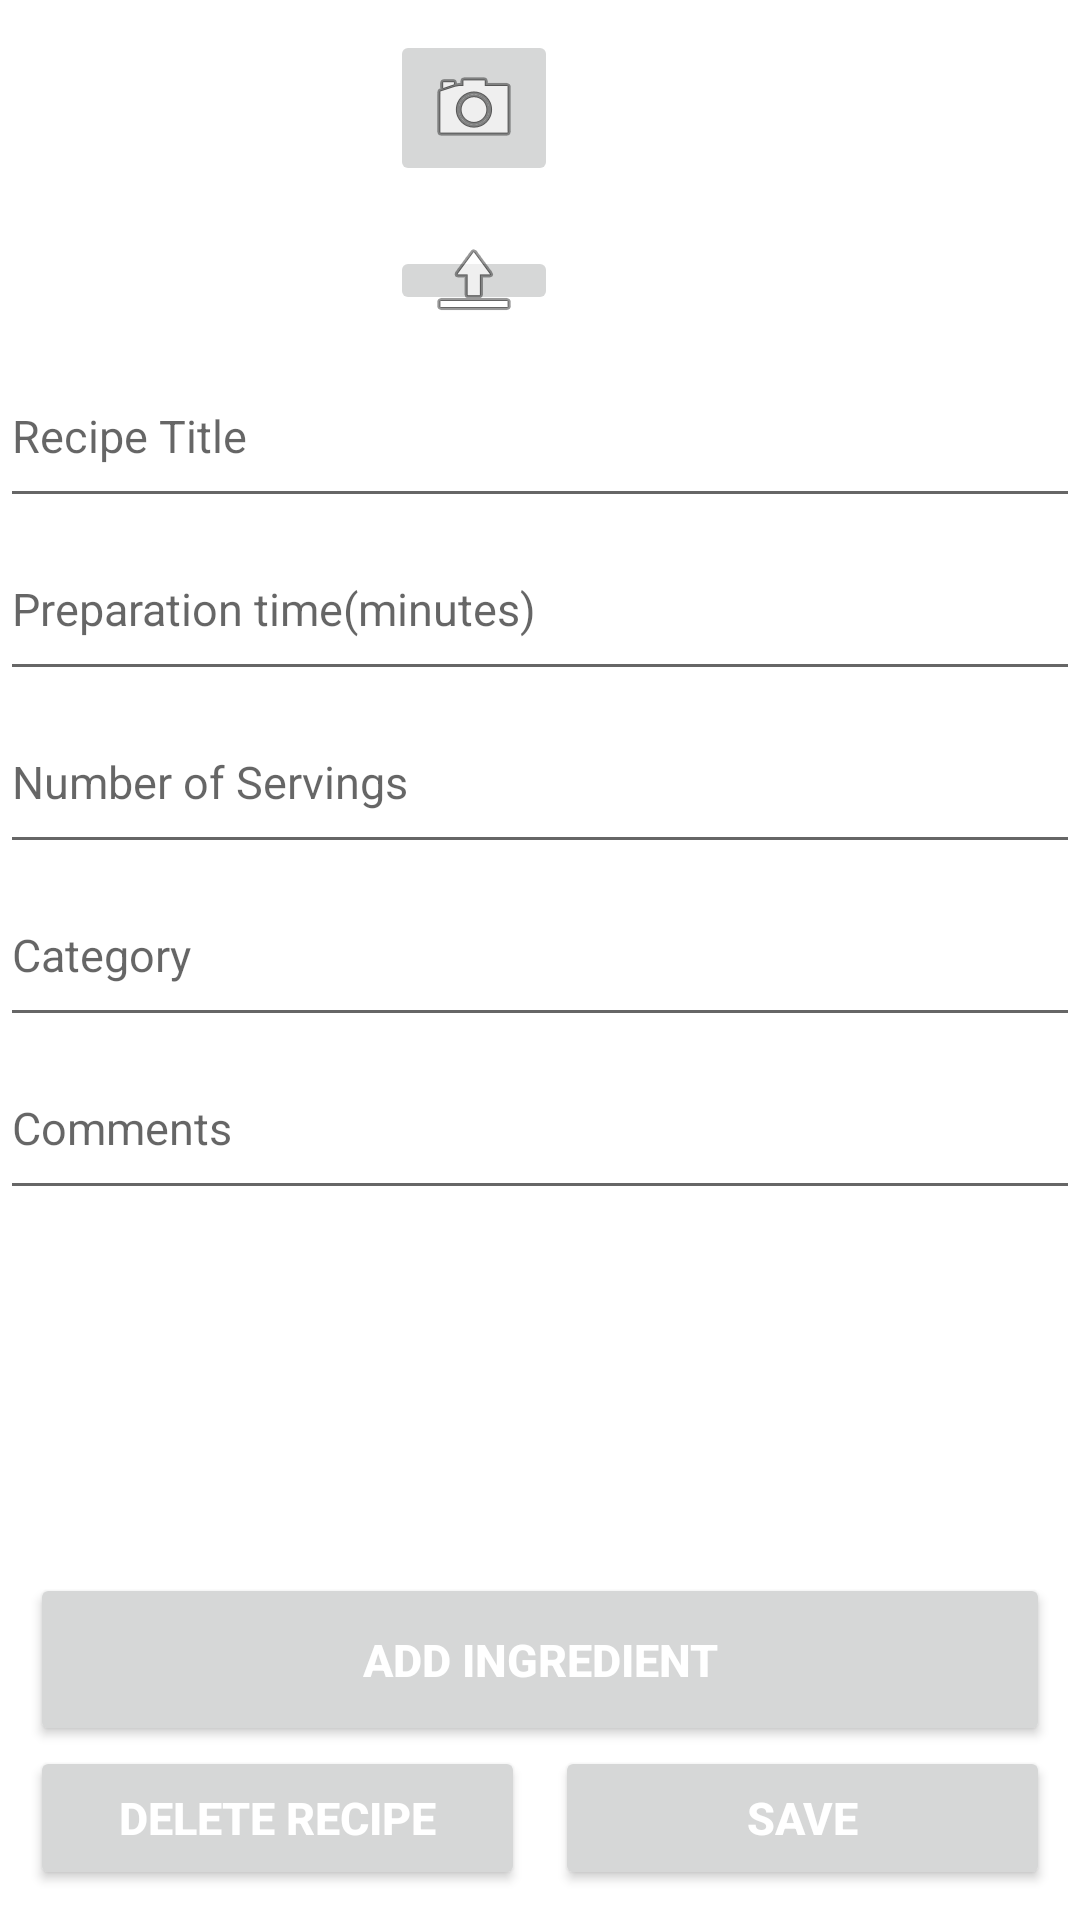

Icon click points for this 1080 × 1920 phone screenshot, format (x,y):
camera: (474,108)
upload: (474,279)
